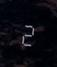two: (19, 19, 35, 47)
